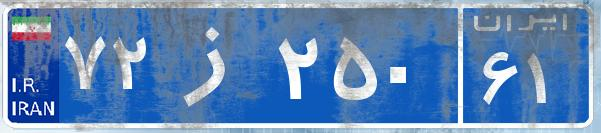0: (385, 28, 445, 110)
1: (525, 38, 570, 115)
2: (273, 28, 330, 110), (110, 28, 158, 105)
5: (330, 28, 385, 110)
6: (475, 38, 525, 113)
7: (57, 26, 110, 107)
ز: (158, 15, 273, 115)
